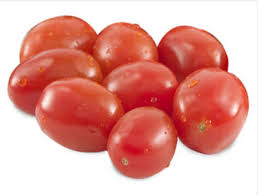tomato: (175, 69, 249, 153), (41, 77, 111, 147), (109, 109, 175, 174)
